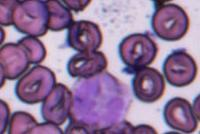N: (72, 72, 131, 129)
